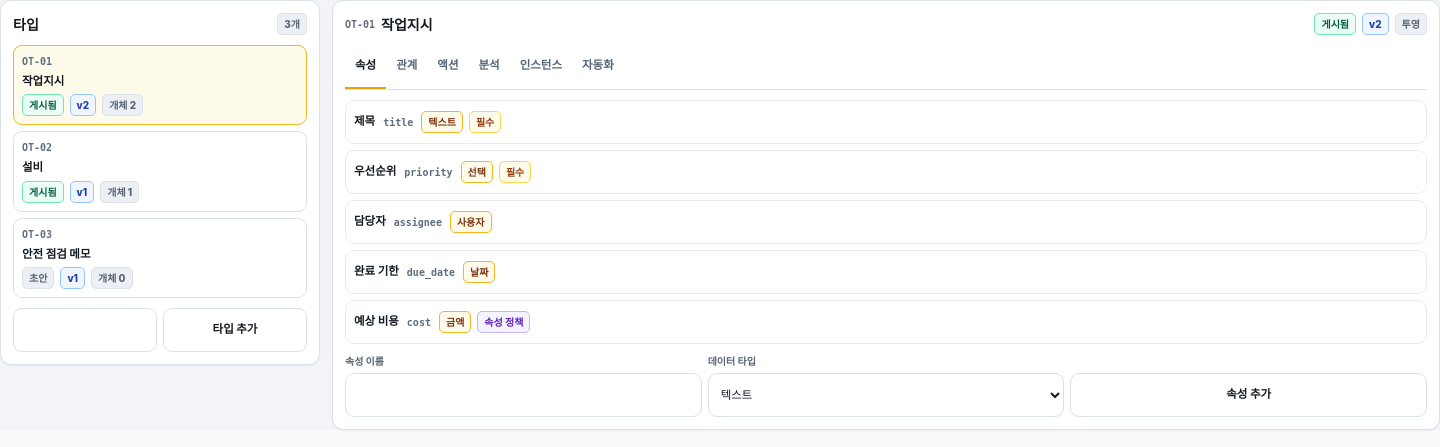
Test case: OntologyManagerScreen (design change-log 63) › switches between the six editor subtabs
The width and height of the screenshot is (1440, 447).
Click the tab "관계" at (407, 67), box [386, 45, 427, 89]
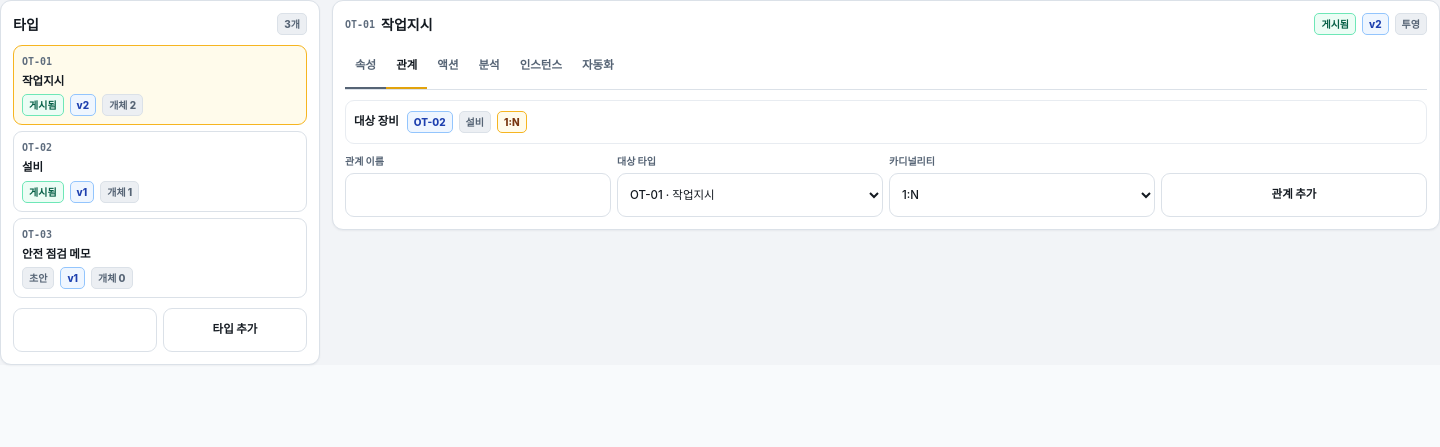
Check: the list item "대상 장비" is shown, box [354, 114, 399, 128]
Check: the text "1:N" is shown, box [497, 111, 527, 133]
Click the tab "액션" at (448, 67), box [427, 45, 468, 89]
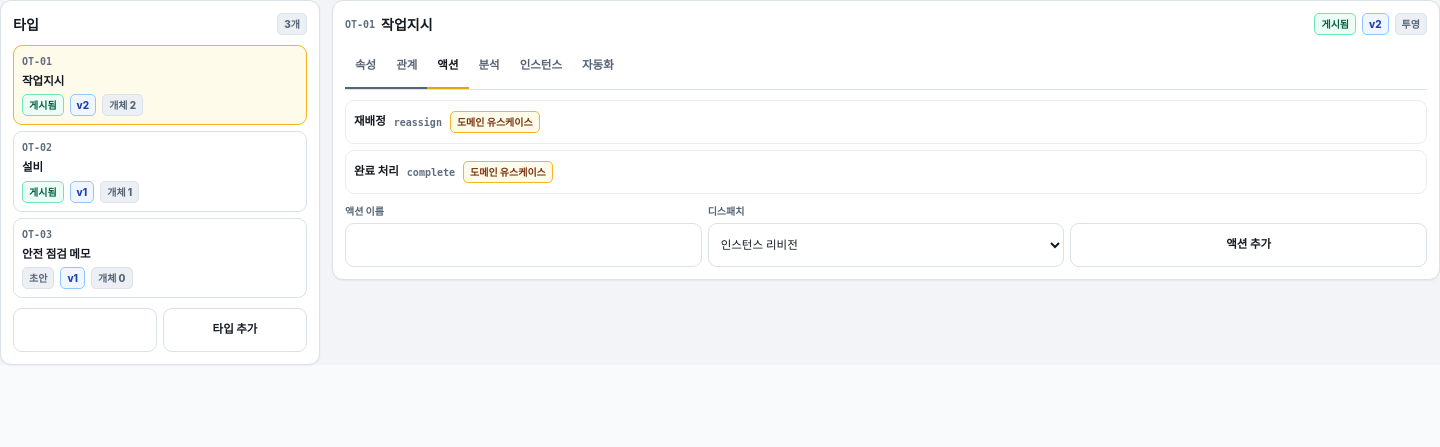
Check: the text "재배정" is shown, box [354, 113, 386, 131]
Click the tab "분석" at (489, 67), box [468, 45, 510, 89]
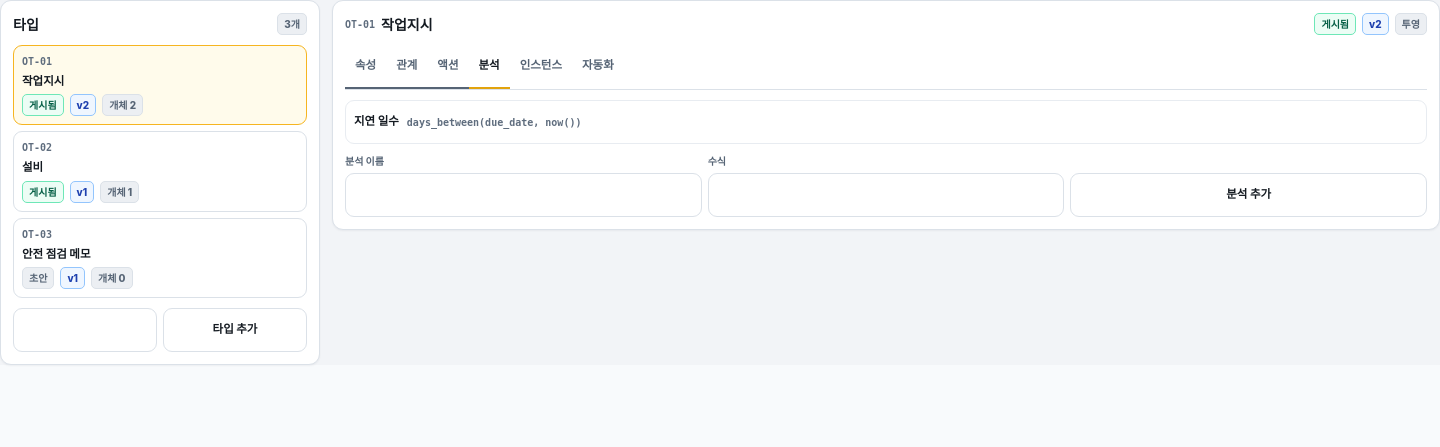
Check: the text "days_between(due_date, now())" is shown, box [407, 114, 581, 130]
Click the tab "자동화" at (598, 67), box [572, 45, 624, 89]
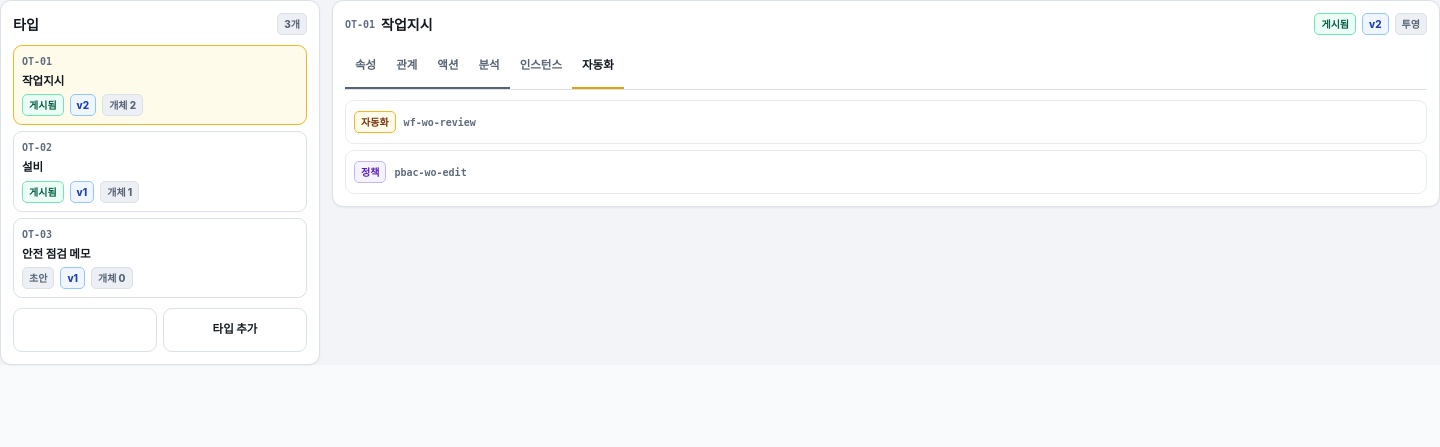
Check: the text "wf-wo-review" is shown, box [404, 114, 476, 130]
